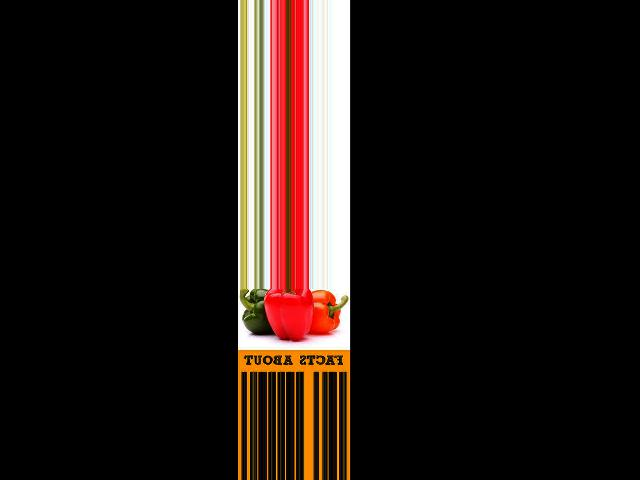bell_pepper: (239, 289, 267, 341)
